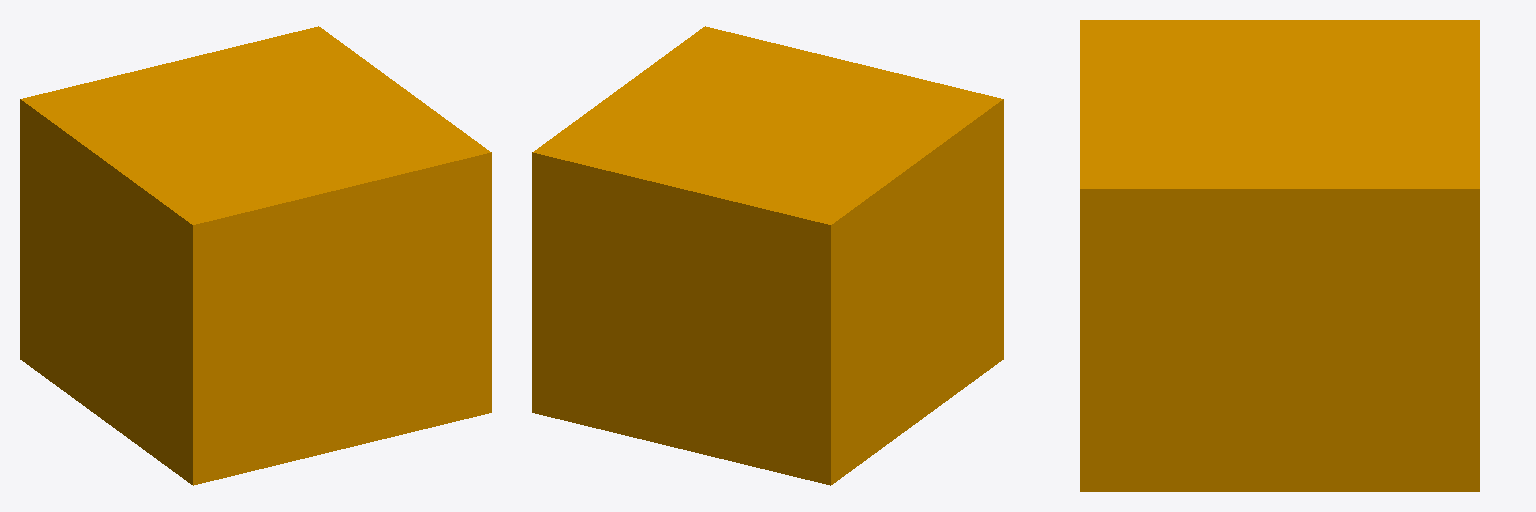
The robot description file, URDF, robot "object":
<robot name="object">
  <link name="object">
    <visual>
      <origin xyz="0 0 0" />
      <geometry>
        <box size="0.09600000000000003 0.09600000000000003 0.08" />
      </geometry>
    </visual>

    <collision>
      <origin xyz="0 0 0" />
      <geometry>
        <box size="0.09600000000000003 0.09600000000000003 0.08" />
      </geometry>
    </collision>

    <inertial>
      <mass value="0.05" />
      <inertia ixx="0.0001" ixy="0.0" ixz="0.0" iyy="0.0001" iyz="0.0" izz="0.0001" />
    </inertial>
  </link>
</robot>

--- Render facts (derived) ---
3 views of the same robot in one strip: view 1: azimuth 30°, elevation 25°; view 2: azimuth 150°, elevation 25°; view 3: azimuth 270°, elevation 25° (orthographic).
Robot: object — 1 links, 0 joints (none); root link object; default pose: all joints at 0.
Links seen in each view (by area): view 1: object; view 2: object; view 3: object.
Boxes of the visible links, left/top/right/bottom form: object: left=20, top=26, right=491, bottom=485; object: left=532, top=26, right=1003, bottom=485; object: left=1080, top=20, right=1479, bottom=491.
Bounding box of the posed robot: 0.096 × 0.096 × 0.08 m (x, y, z).
Geometry: primitives only (box / cylinder / sphere), no mesh files.